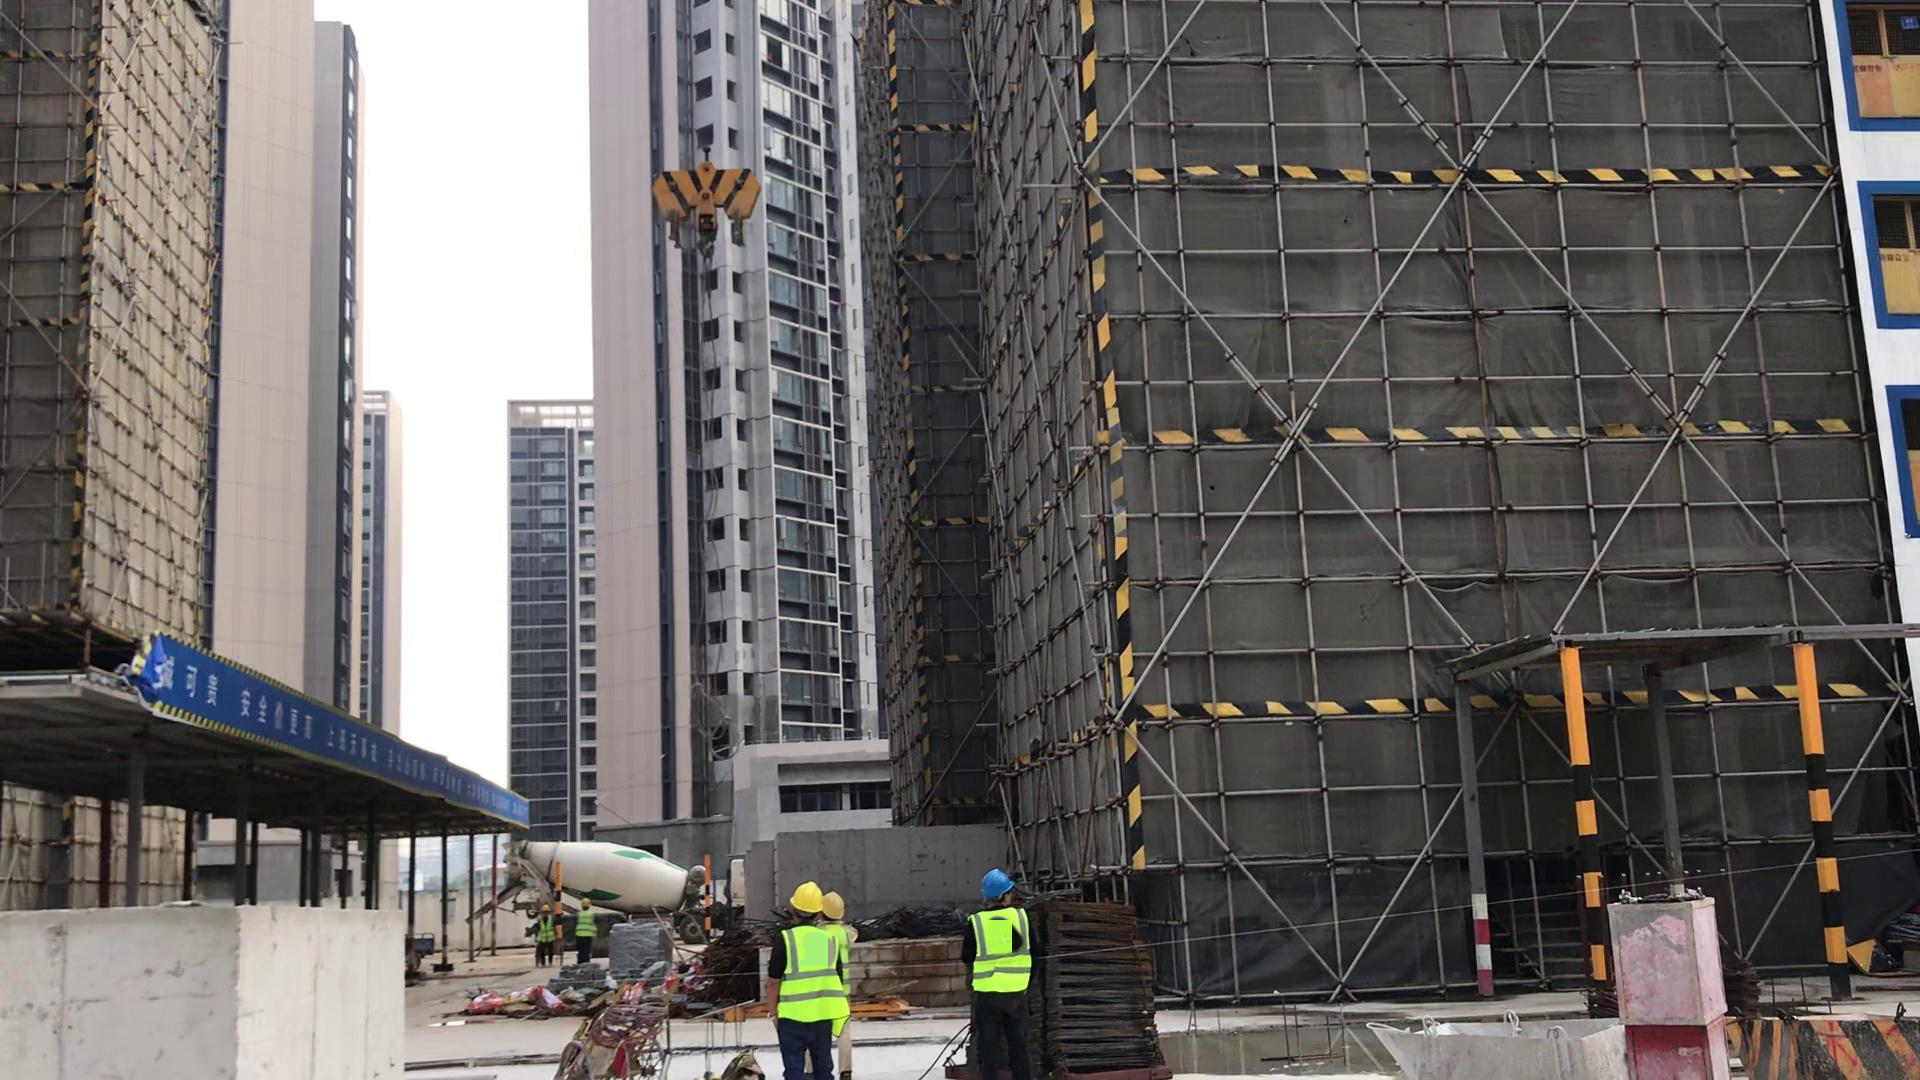helmet: (787, 876, 822, 916), (980, 867, 1018, 902), (821, 889, 852, 918), (568, 888, 599, 909), (536, 897, 559, 913)
hook: (647, 128, 763, 250)
person: (776, 878, 829, 1080), (971, 863, 1025, 1002), (819, 895, 858, 1078), (563, 889, 598, 966), (535, 899, 554, 962)
vest: (774, 924, 850, 1021), (972, 914, 1032, 989), (571, 908, 602, 937), (539, 915, 554, 946)
